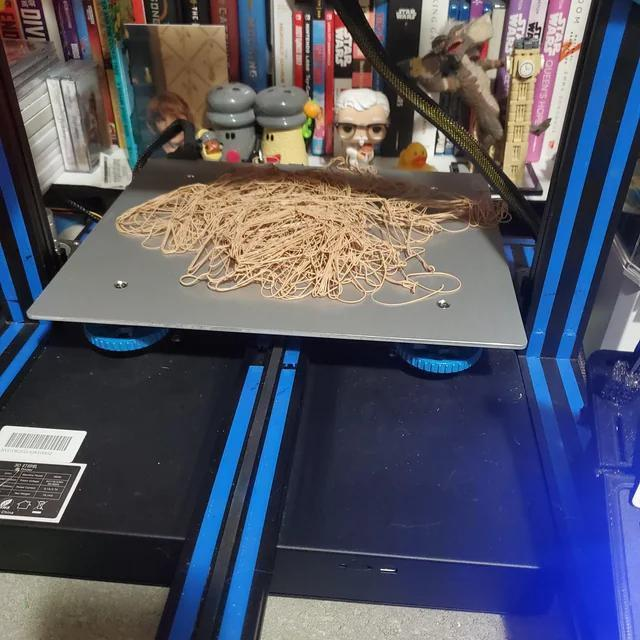spaghetti: (192, 193, 388, 291), (386, 185, 478, 228), (134, 202, 198, 244), (382, 232, 432, 284)
